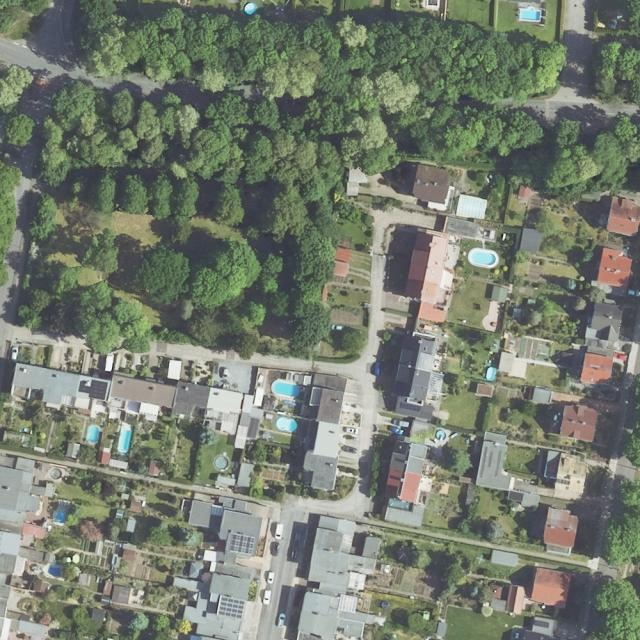PV: (78, 377, 109, 400), (218, 595, 244, 618), (230, 532, 255, 555), (400, 402, 420, 412), (556, 478, 570, 485)
